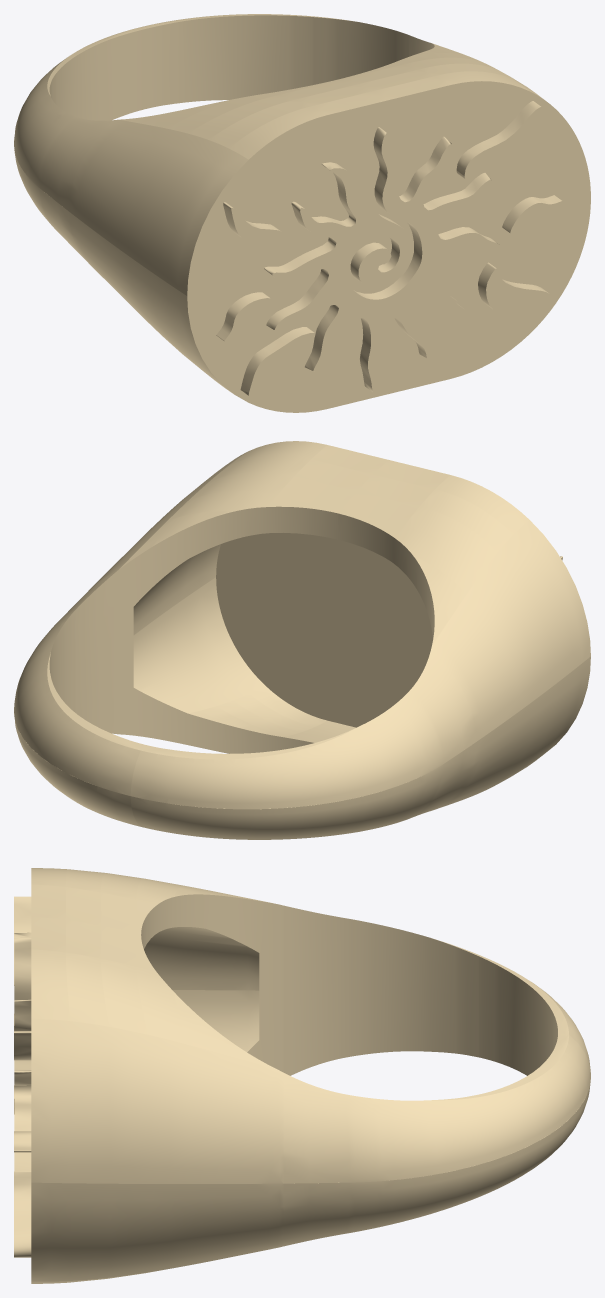
File: ringaurea.glb
3 views of the same model, one above another, from view 1: azimuth 30°, elevation 25°; view 2: azimuth 150°, elevation 25°; view 3: azimuth 270°, elevation 25° (orthographic). The views are drawn at different scales.
Visible parts, largest first — view 1: RingAurea; view 2: RingAurea; view 3: RingAurea.
Part boxes in pixels (x1,y1,x2,y2): RingAurea: [14, 14, 590, 412]; RingAurea: [14, 441, 590, 839]; RingAurea: [14, 868, 590, 1283].
Size of the model in its own units: 23.32 by 16 by 26.29.
